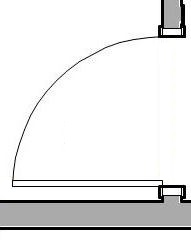door: (2, 37, 180, 182)
